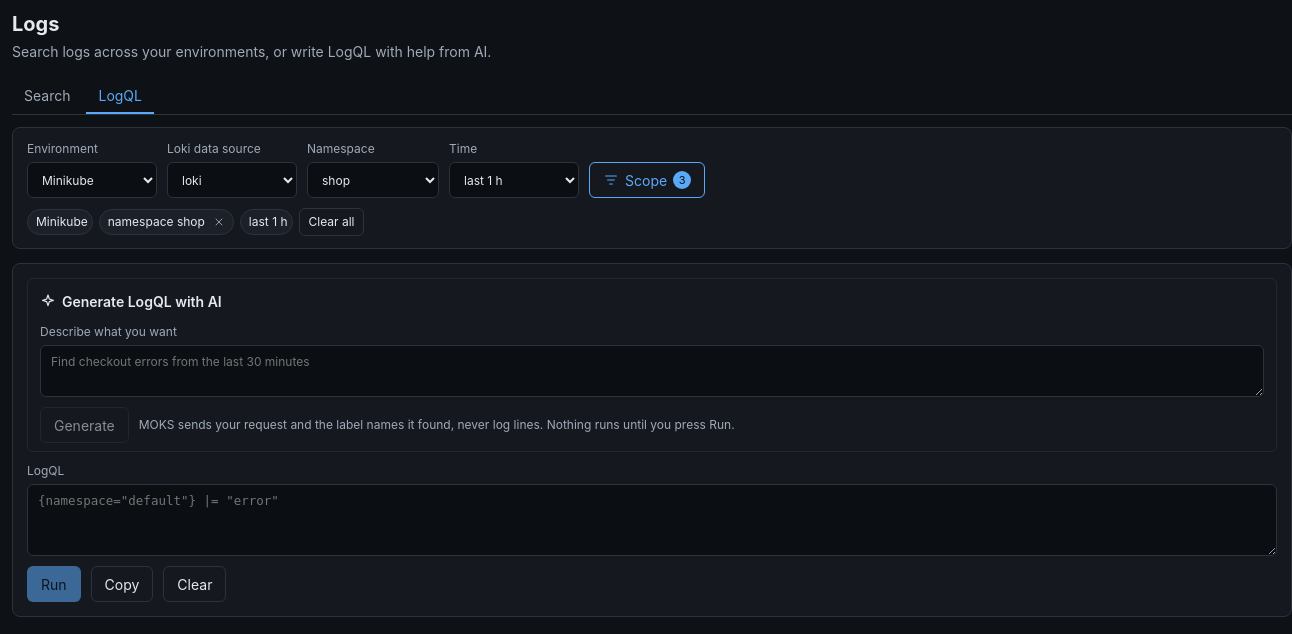
Test: Generate LogQL with AI › sends one request while one is running, and can cancel it
This screenshot has width=1292, height=634.
Type "find checkout timeouts" into the text box labelled "Describe what you want" at (652, 371), box [40, 345, 1264, 397]
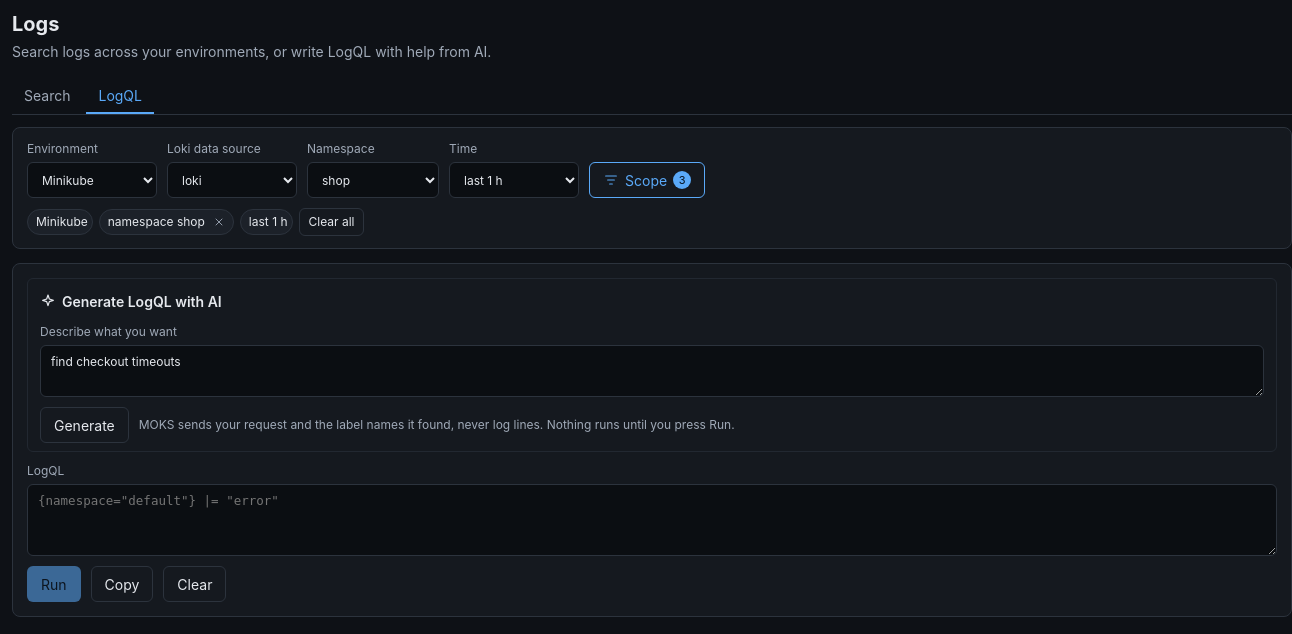
Submit the form "Generate", box [40, 323, 1264, 443]
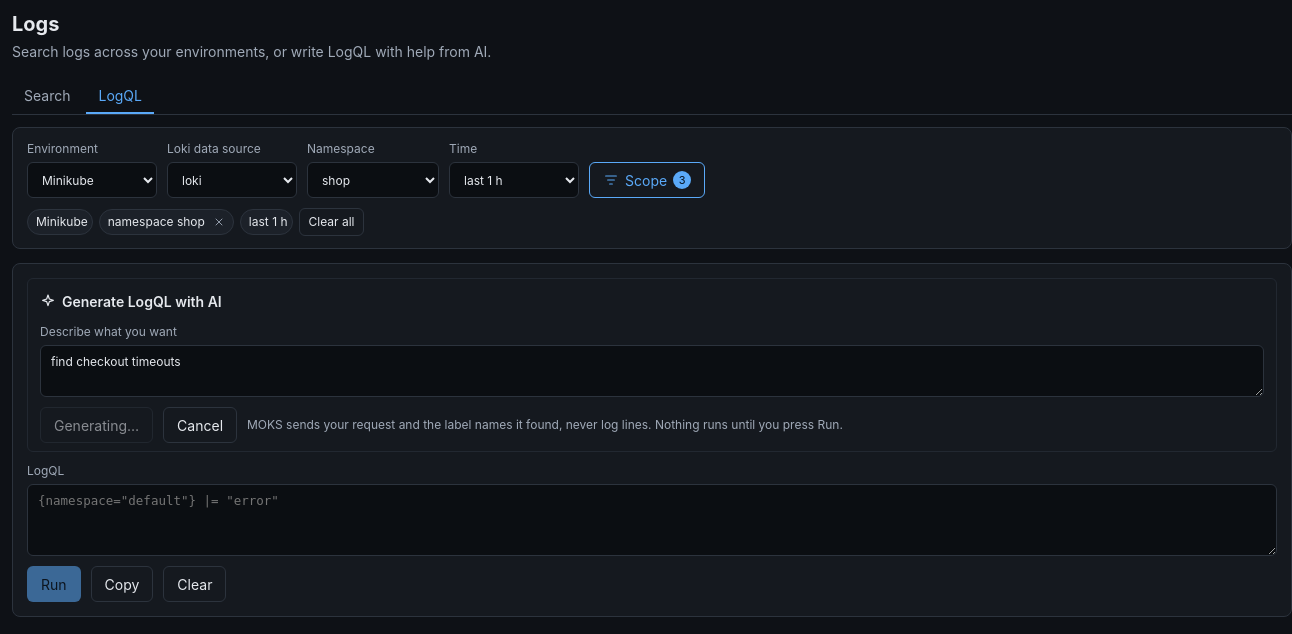
Submit the form named "Generate", box [40, 323, 1264, 443]
Result: the button "Generating…" is shown at [40, 407, 153, 443]
Click the button "Cancel" at (200, 425), box [163, 407, 237, 443]
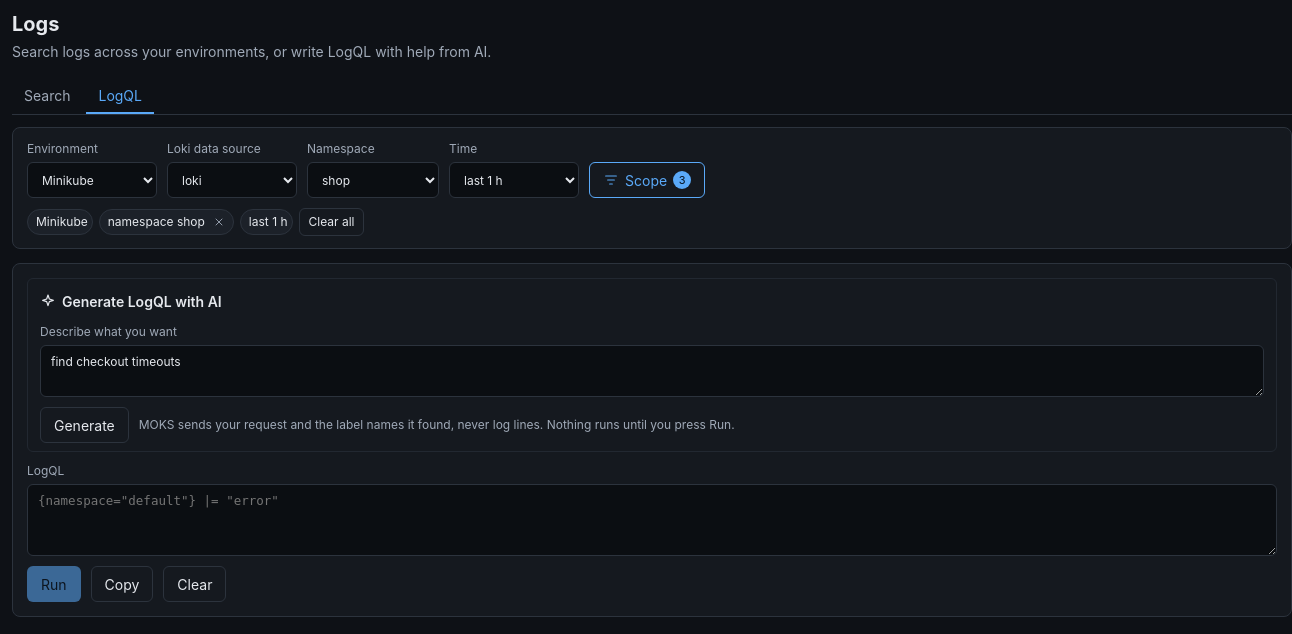
Expected: the text box labelled "LogQL" is empty, [27, 484, 1277, 556]
Result: the button "Generate" is shown at [40, 407, 129, 443]
